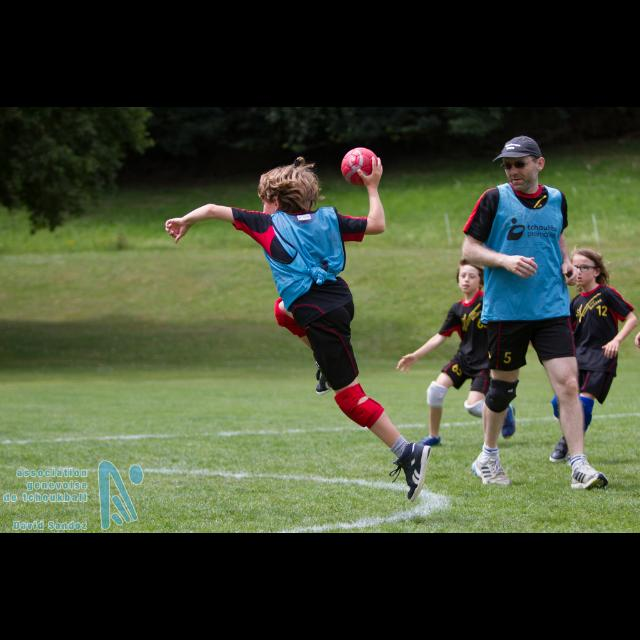Football: (340, 148, 380, 188)
